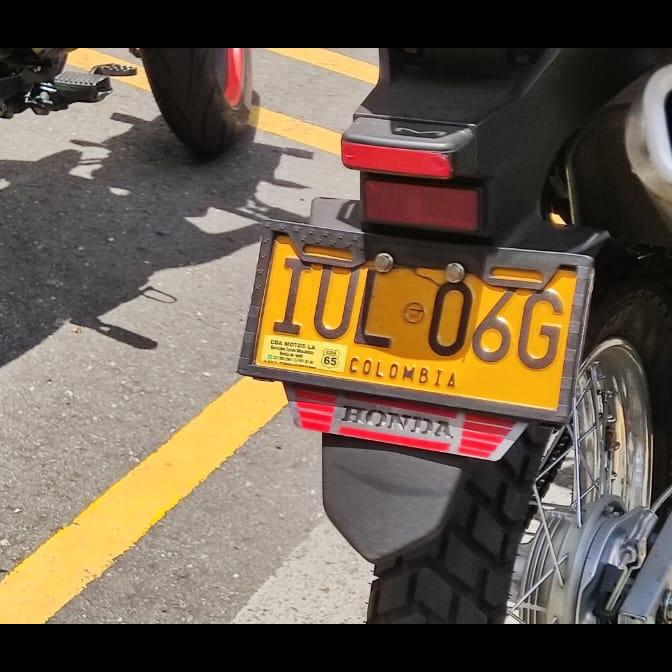plates: (243, 227, 587, 418)
